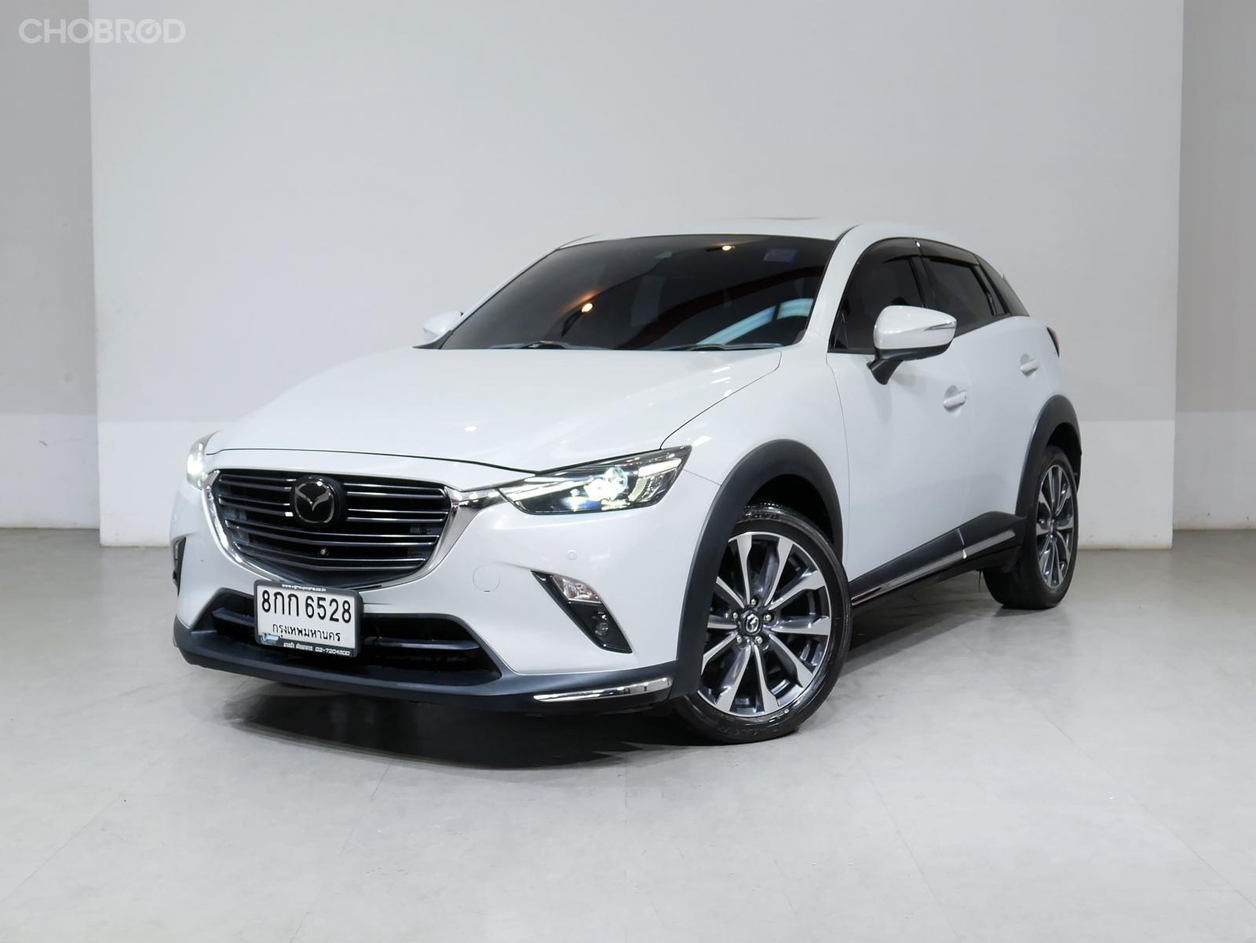license-plate: (253, 578, 364, 656)
